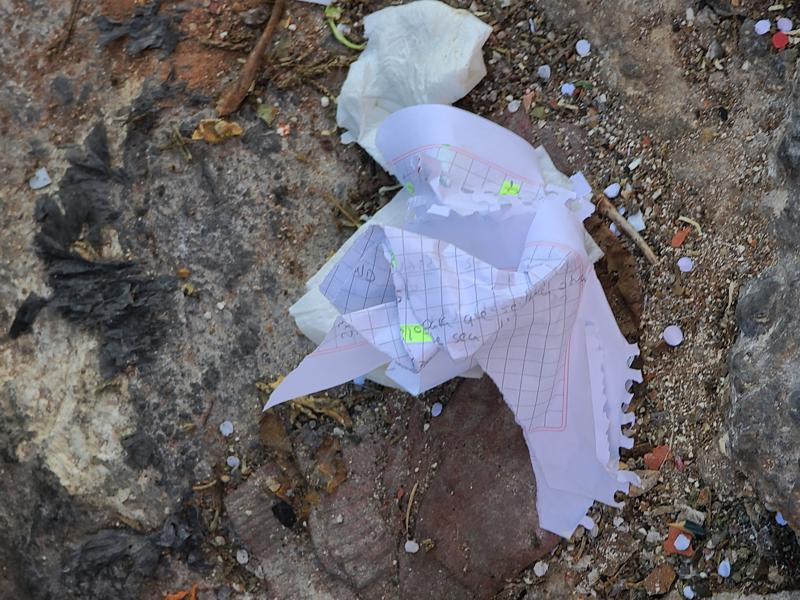papel: (264, 0, 639, 538)
